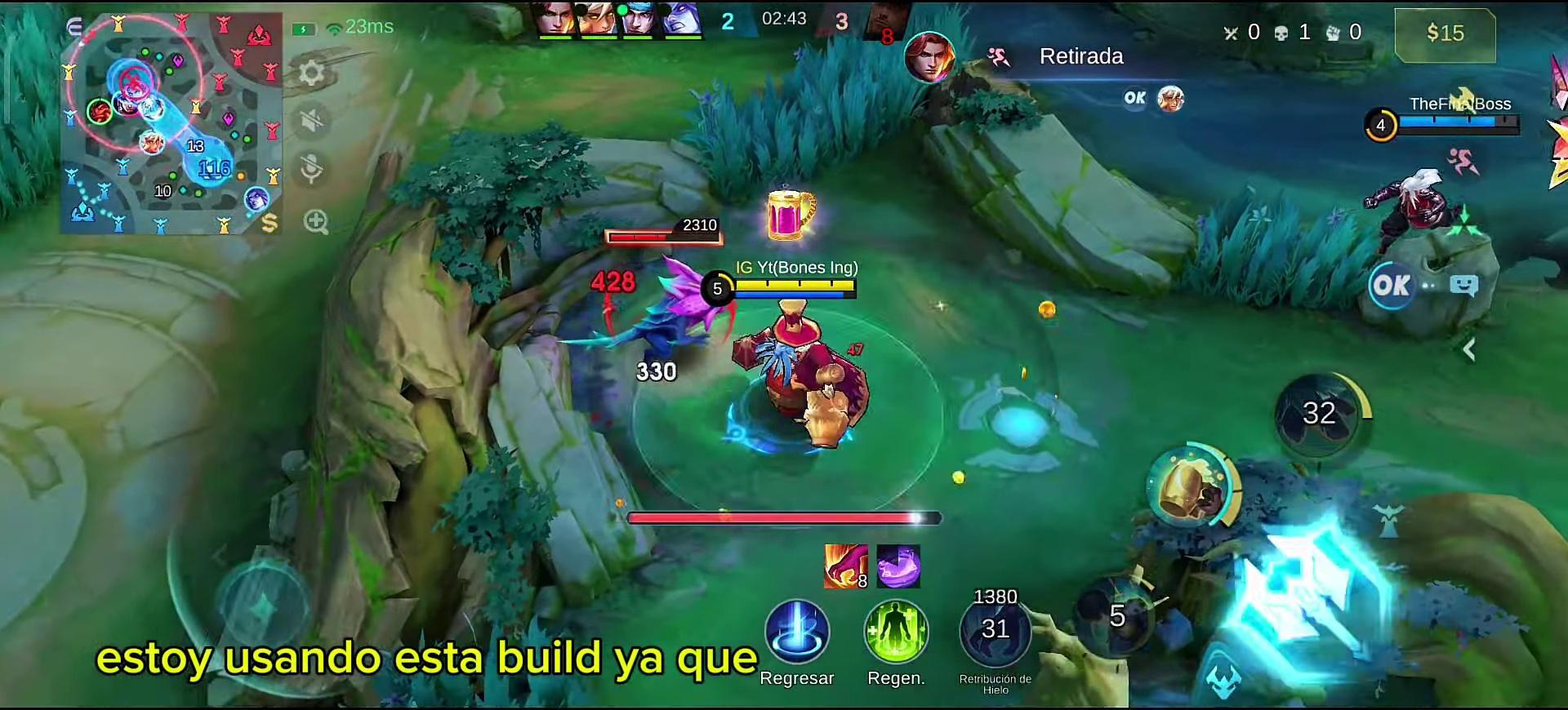Adc_Aliado: (242, 185, 270, 215)
Arbusto: (677, 37, 919, 202), (1180, 186, 1376, 310), (0, 2, 68, 215)
Bane: (739, 301, 878, 449)
EXP_Lane: (64, 13, 88, 39)
Esbirro_Jungla: (586, 261, 729, 375)
Exp_Aliado: (112, 91, 126, 114)
Exp_Enemigo: (119, 95, 140, 118)
Gold_Lane: (257, 211, 282, 234)
HP_Aliado: (1399, 116, 1513, 126)
HP_Heroe_Principal: (738, 279, 865, 289)
Jungla_Aliado: (83, 98, 113, 126)
Mana: (736, 290, 857, 302)
Mid_Aliado: (138, 128, 166, 154)
Mid_Enemigo: (122, 81, 149, 104)
Minimapa: (61, 12, 288, 235)
Roamer_Aliado: (141, 99, 167, 119)
Skill2: (1147, 437, 1239, 535)
